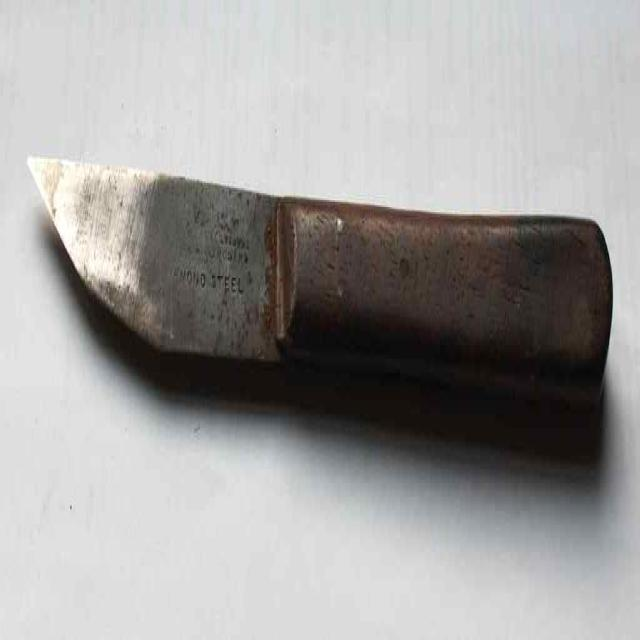Knife: (29, 156, 611, 377)
